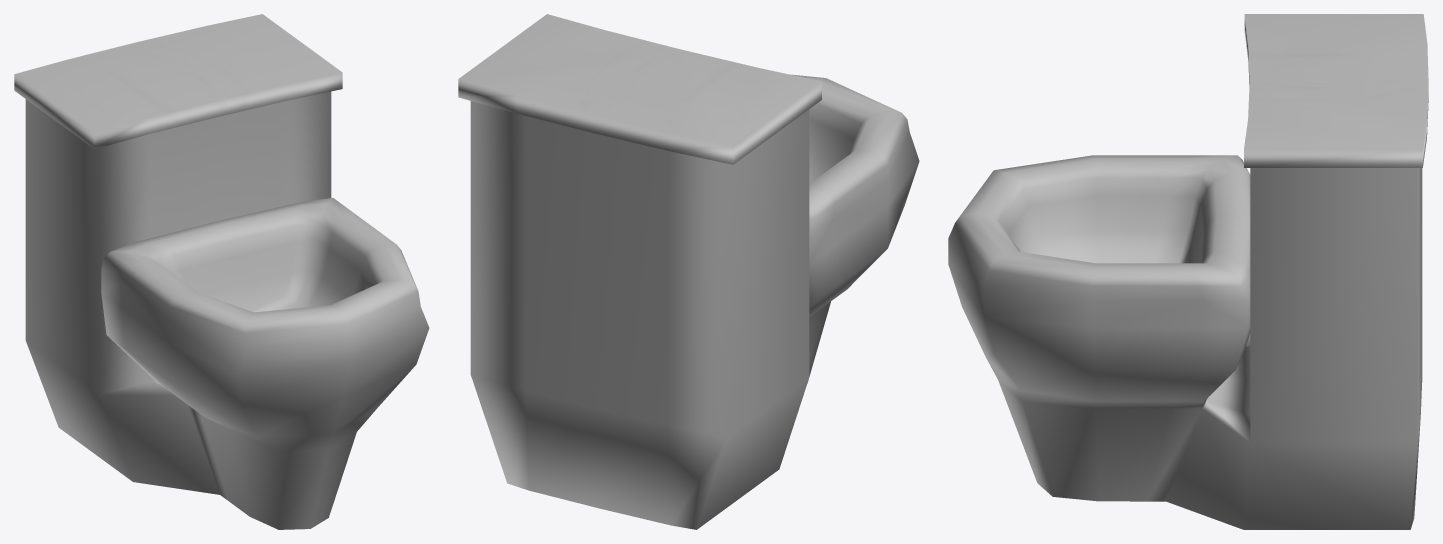
File: toilet.fbx
3 renders of one model, left to right at view 1: azimuth 30°, elevation 25°; view 2: azimuth 150°, elevation 25°; view 3: azimuth 270°, elevation 25°, orthographic. The views are drawn at different scales.
Parts seen in each view (by area): view 1: polySurface567; view 2: polySurface567; view 3: polySurface567.
Part boxes in pixels (left/top/right/bottom): polySurface567: left=14, top=14, right=429, bottom=529; polySurface567: left=458, top=14, right=919, bottom=529; polySurface567: left=948, top=14, right=1428, bottom=529.
Size of the model in its own units: 0.7189 by 0.9941 by 1.08.
1 material, 1 textured.
